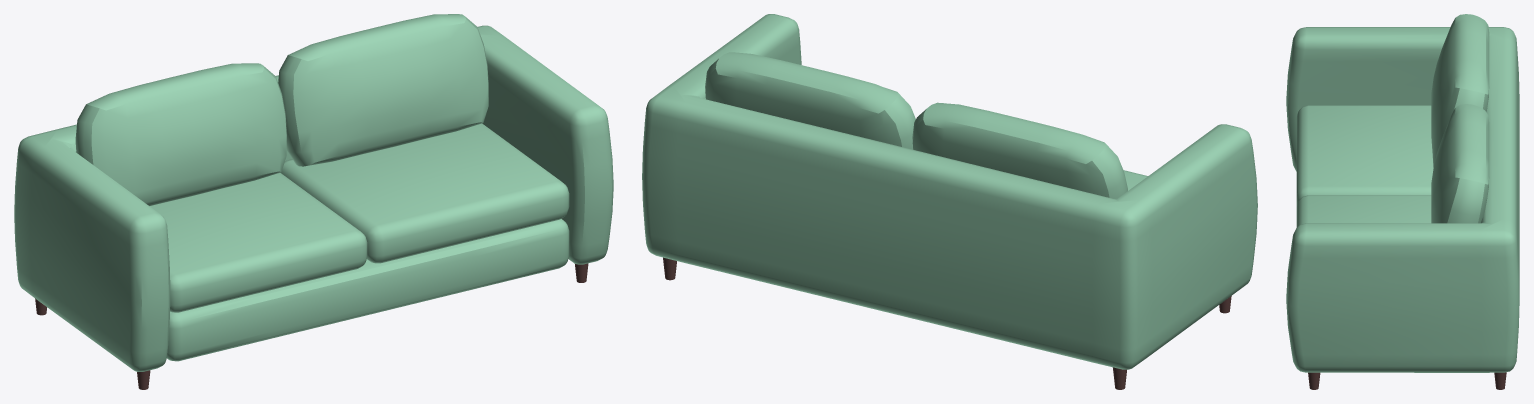
The model's file is test_sofa1.fbx.
3 views of the same model, side by side, from view 1: azimuth 30°, elevation 25°; view 2: azimuth 150°, elevation 25°; view 3: azimuth 270°, elevation 25° (orthographic). The views are drawn at different scales.
Visible parts, largest first — view 1: sofa1; view 2: sofa1; view 3: sofa1.
Boxes of the visible parts, x1,y1,x2,y2 form: sofa1: [14, 14, 613, 389]; sofa1: [642, 14, 1257, 389]; sofa1: [1286, 14, 1519, 389].
Size of the model in its own units: 4.3 by 1.86 by 1.98.
